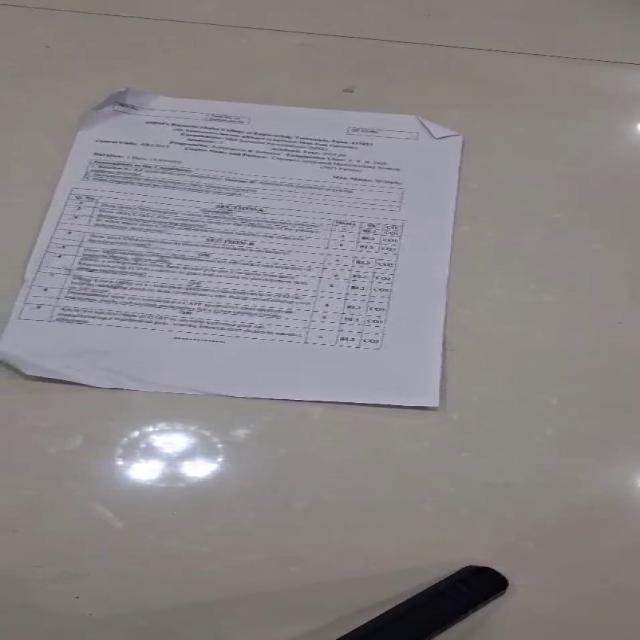paper: (0, 87, 465, 408)
